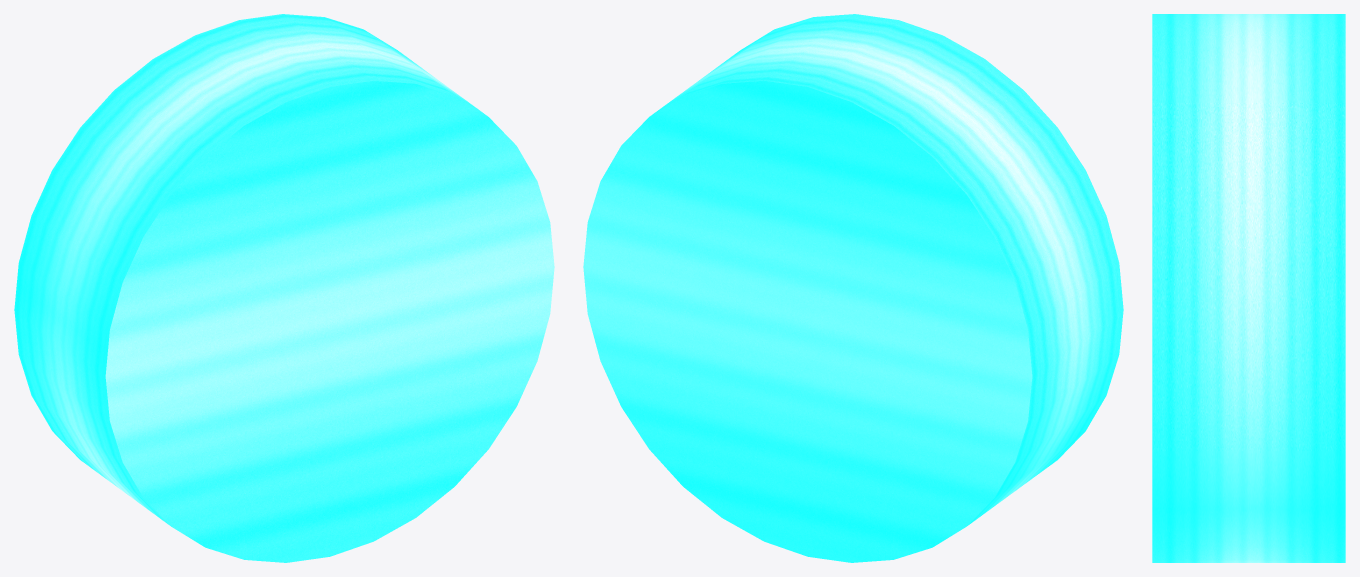
The model's file is cyan_laser_rod_3.glb.
3 renders of one model, left to right at view 1: azimuth 30°, elevation 25°; view 2: azimuth 150°, elevation 25°; view 3: azimuth 270°, elevation 25°, orthographic. The views are drawn at different scales.
Parts seen in each view (by area): view 1: CyanLaserRod_Root; view 2: CyanLaserRod_Root; view 3: CyanLaserRod_Root.
Boxes of the visible parts, left/top/right/bottom form: CyanLaserRod_Root: left=14, top=14, right=554, bottom=562; CyanLaserRod_Root: left=583, top=14, right=1123, bottom=562; CyanLaserRod_Root: left=1152, top=14, right=1345, bottom=562.
Size of the model in its own units: 0.0796 by 0.0796 by 0.028.
Materials: 1 (1 with a texture image).
